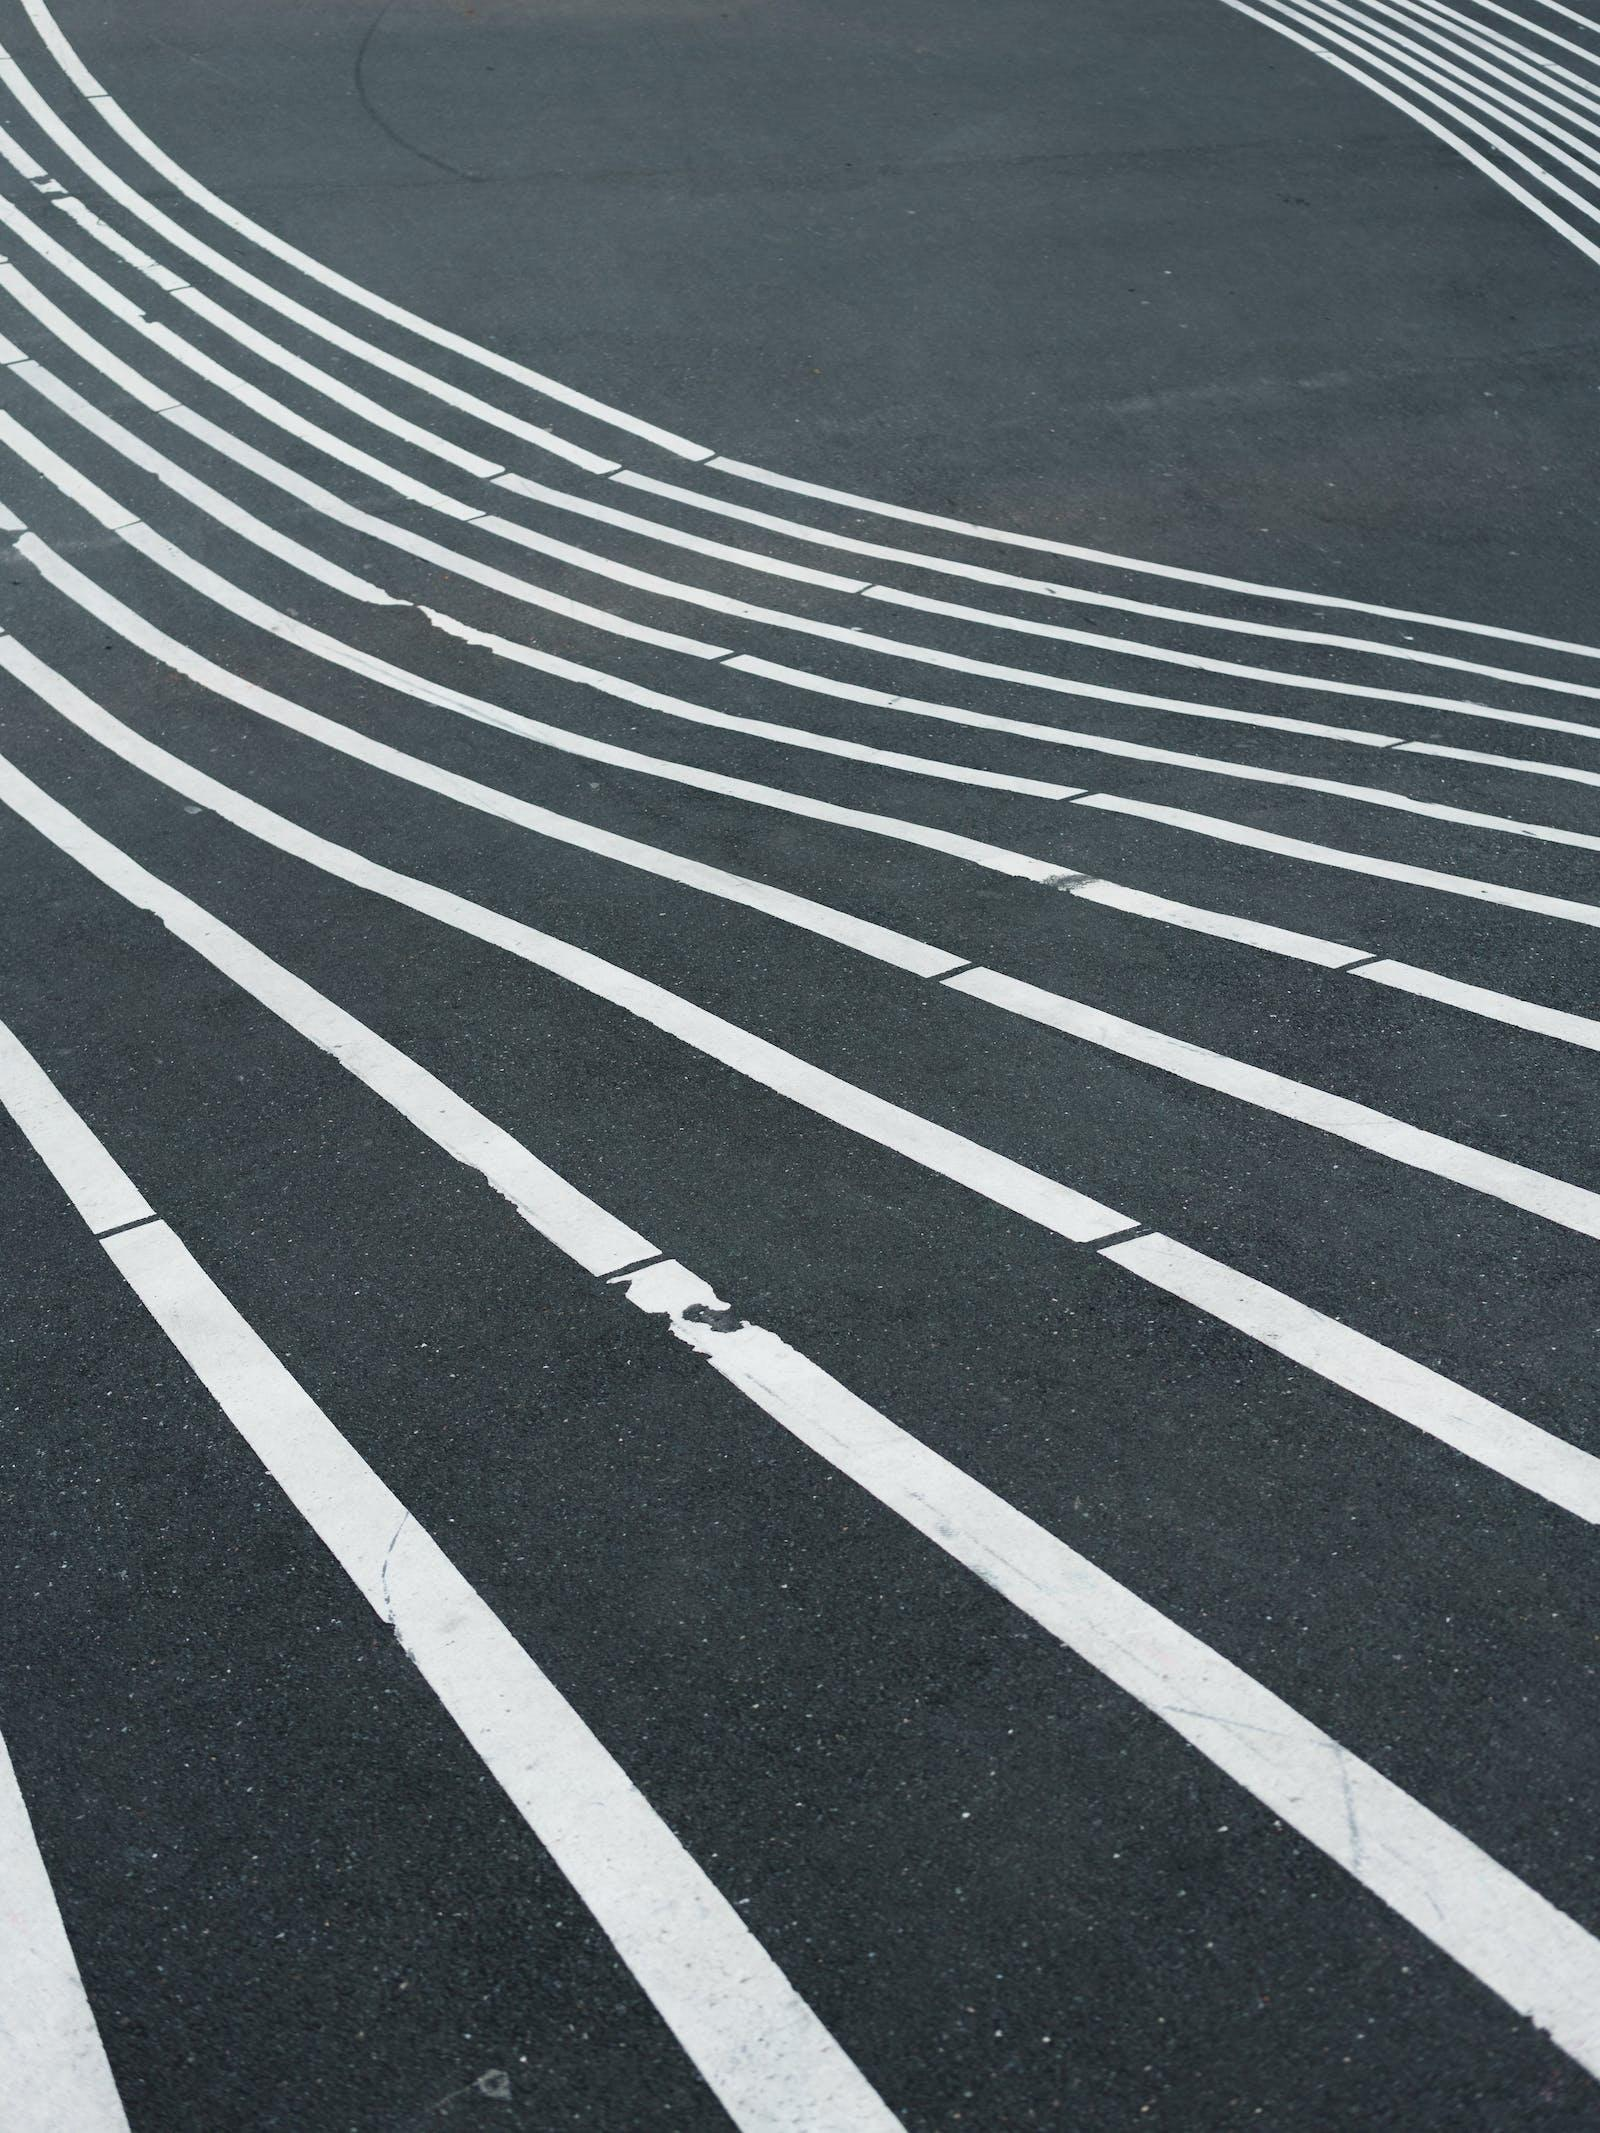road: (0, 0, 1597, 2131)
